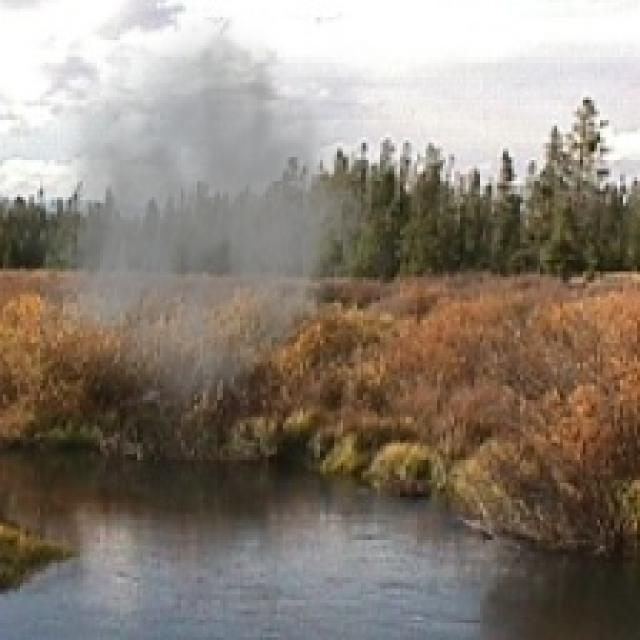smoke: (40, 11, 406, 432)
